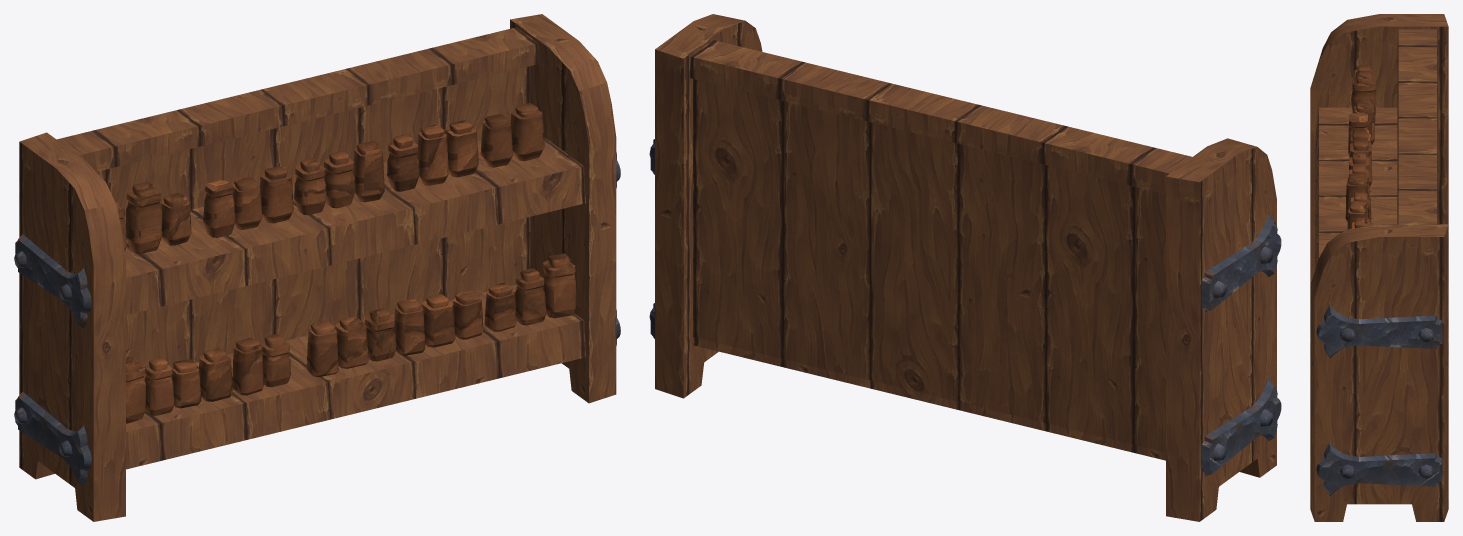
Rendered from furn_shelf_bottles.glb.
3 views of the same model, side by side, from view 1: azimuth 30°, elevation 25°; view 2: azimuth 150°, elevation 25°; view 3: azimuth 270°, elevation 25° (orthographic). The views are drawn at different scales.
Parts seen in each view (by area): view 1: model; view 2: model; view 3: model.
Part boxes in pixels (bbox=[...]): model: bbox=[14, 14, 620, 521]; model: bbox=[649, 14, 1281, 521]; model: bbox=[1310, 14, 1448, 521].
Bounding box in the file's own units: 1.14 × 0.6474 × 0.2846.
Materials: 3 (3 with a texture image).
